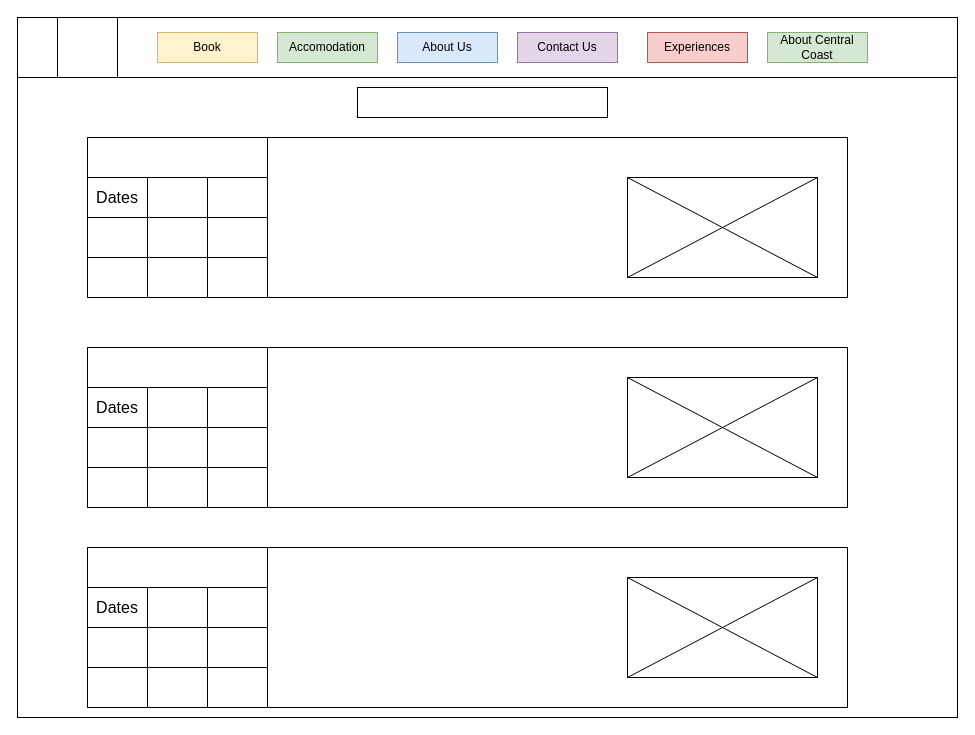
Some shapes in this 975 by 735 pixel diagram are drawn without their labels. Each missing label, with the centre of its shape:
Cabins Available: the point at 482,102
Logo: the point at 87,47
